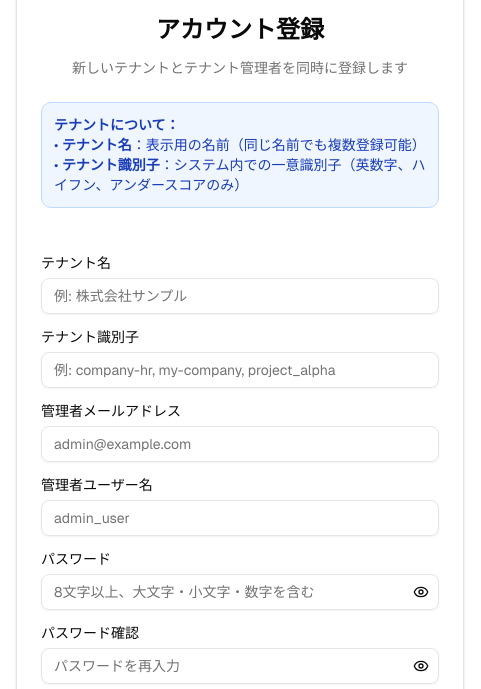
Scenario: TenantRegistrationForm › バリデーションエラー - テナント名が短すぎる
# テナント名を1文字で入力
In the field labelled "テナント名": (240, 296) [41,278,439,314], type "A"
(page scrolled)
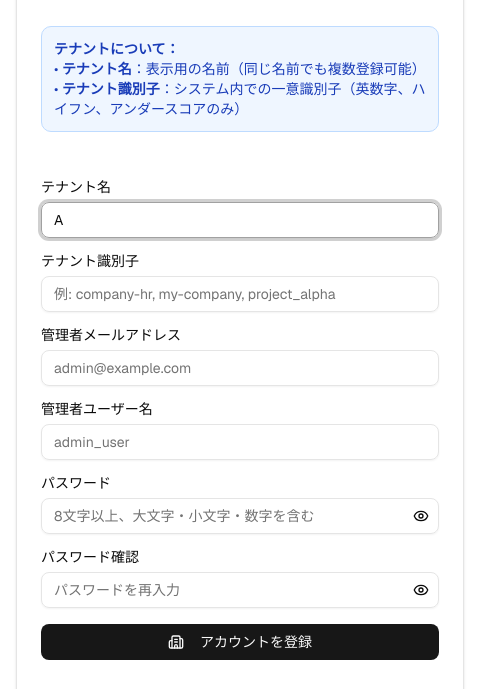
# 登録ボタンをクリック
Click the button "アカウントを登録": (240, 642) [41,624,439,660]
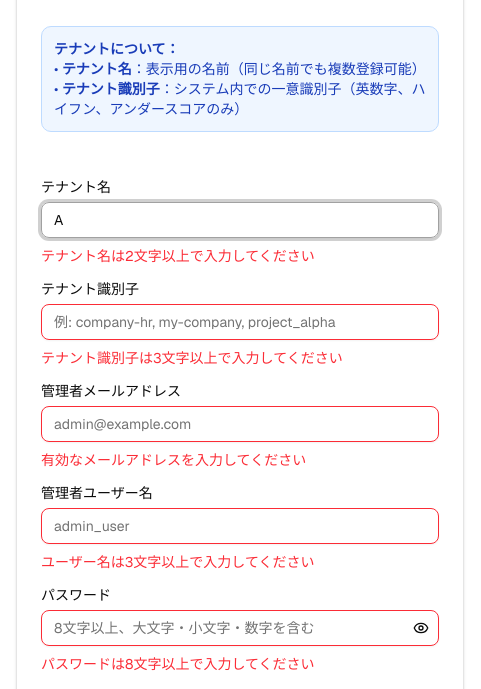
Result: the text "テナント名は2文字以上で入力してください" is shown at [41,247,315,265]
